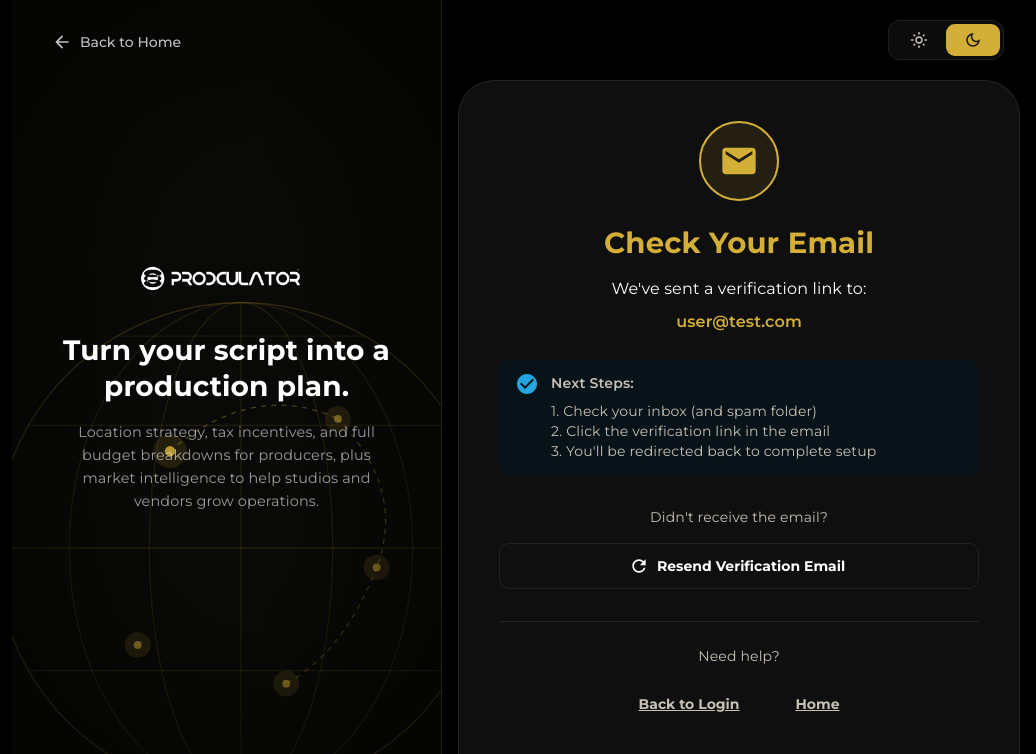
Test case: VerifyEmail — countdown & resend › shows error alert when resend fails
This screenshot has width=1036, height=754.
Click the button "Resend Verification Email" at (739, 566), box [499,543,979,589]
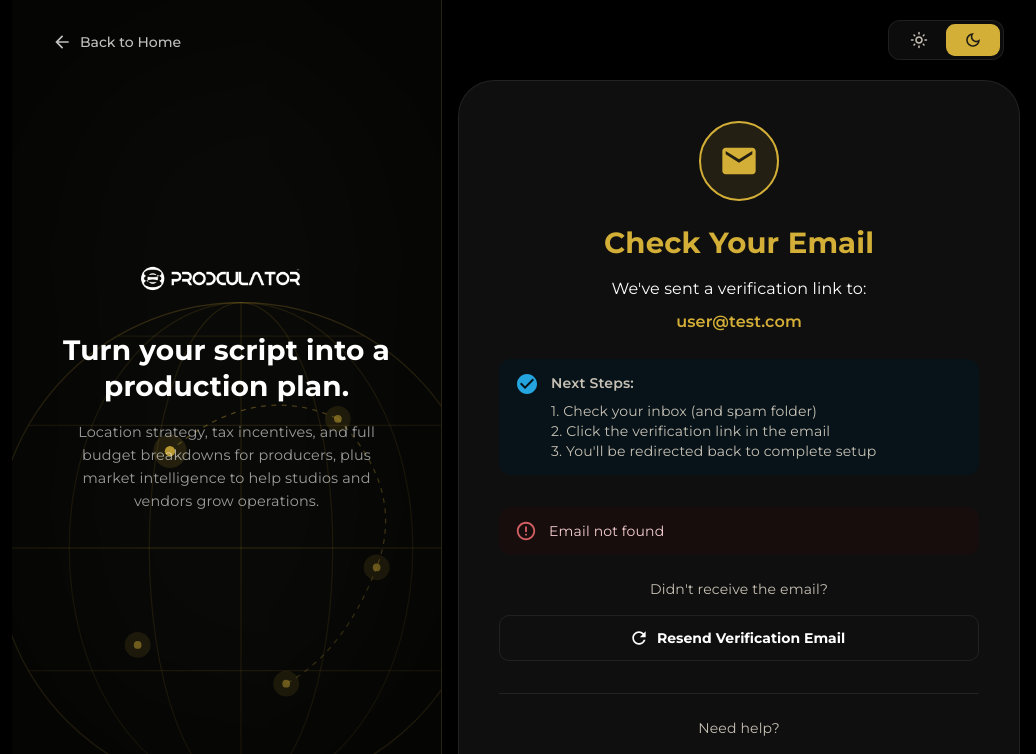
Expected: the text "Email not found" is shown, [549,522,664,540]
